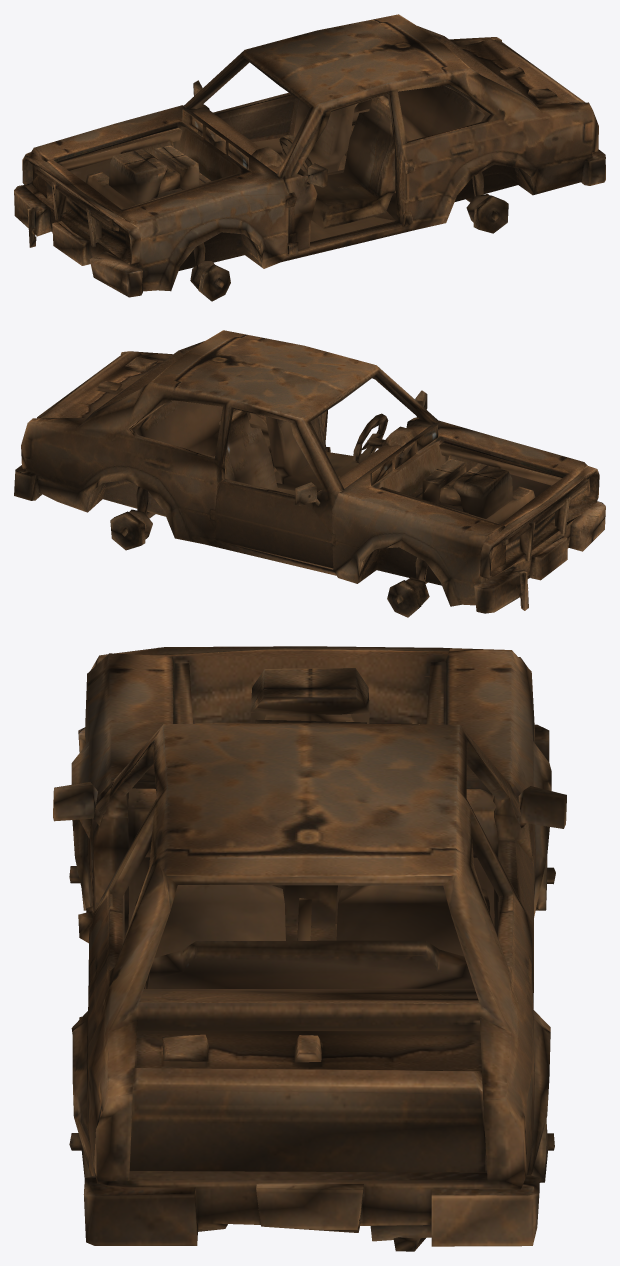
The model's file is Meshy_AI_Desert_Relic_0831092312_texture.fbx.
3 renders of one model, top to bottom at view 1: azimuth 30°, elevation 25°; view 2: azimuth 150°, elevation 25°; view 3: azimuth 270°, elevation 25°, orthographic. The views are drawn at different scales.
Parts seen in each view (by area): view 1: mesh_node; view 2: mesh_node; view 3: mesh_node.
Boxes of the visible parts, left/top/right/bottom form: mesh_node: left=14, top=14, right=605, bottom=301; mesh_node: left=14, top=330, right=605, bottom=617; mesh_node: left=53, top=646, right=566, bottom=1251.
Bounding box in the file's own units: 100 × 31.25 × 45.41.
Materials: 1 (1 with a texture image).
